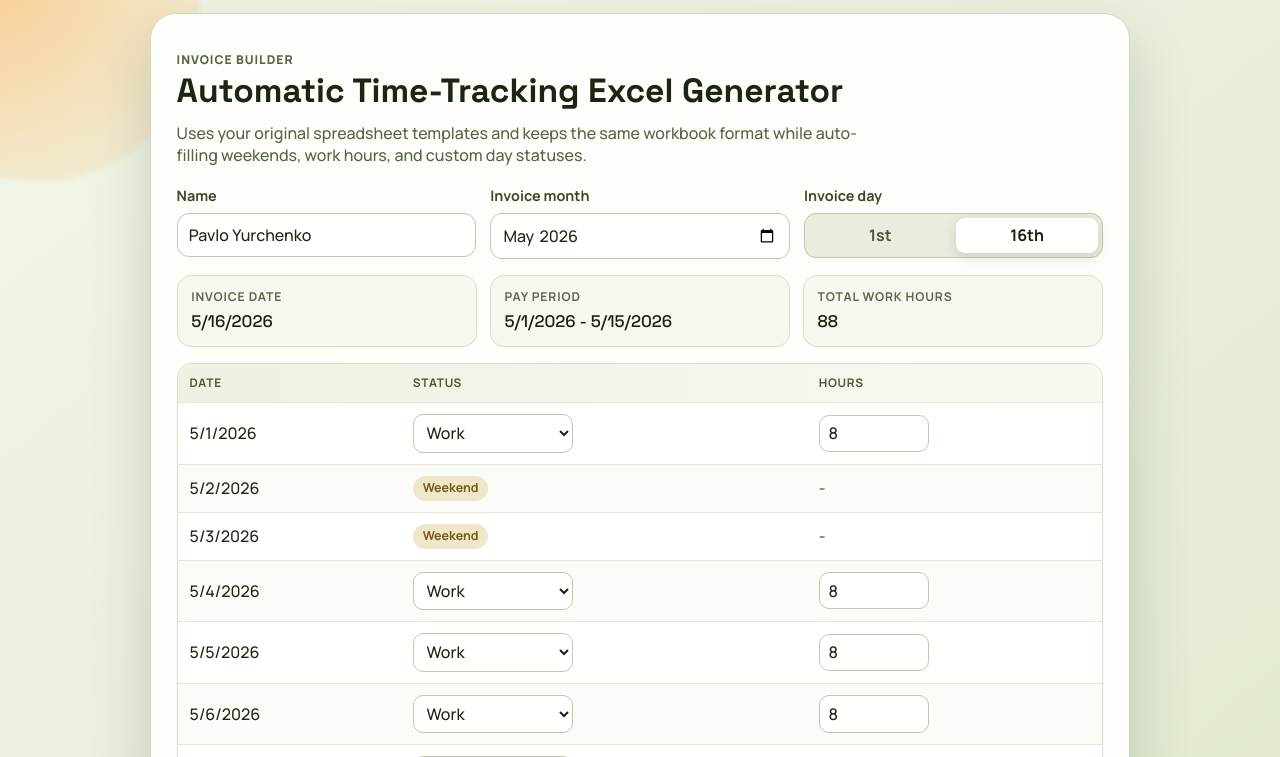
Test: App generation behavior › shows the existing workbook writer failure error behavior
The width and height of the screenshot is (1280, 757).
Step 1. Replace the text in the field labelled "Invoice month" with "2026-02" → coordinates (640, 236), box 490,213 -> 790,259
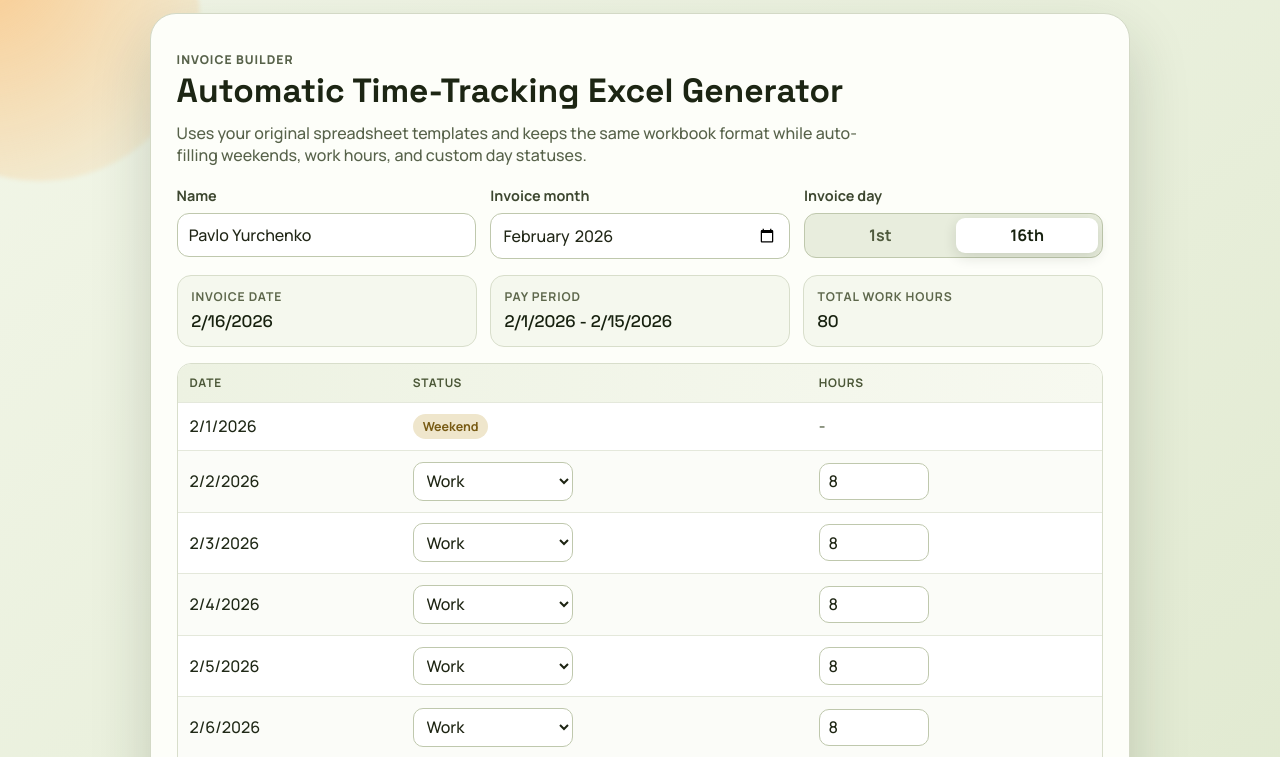
Step 2. Click the button "16th" → coordinates (1027, 235), box 956,218 -> 1098,253
(page scrolled)
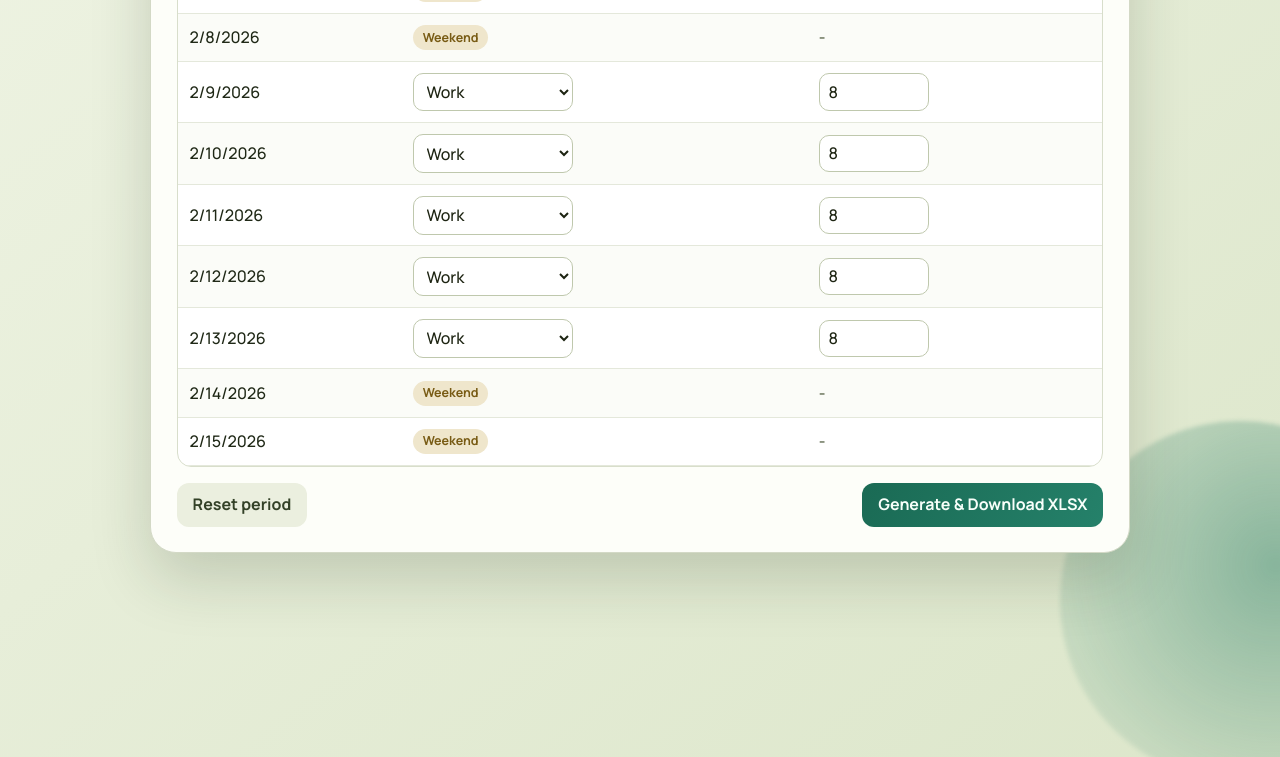
Step 3. Click the button "Generate & Download XLSX" → coordinates (983, 505), box 862,483 -> 1103,527
(page scrolled)
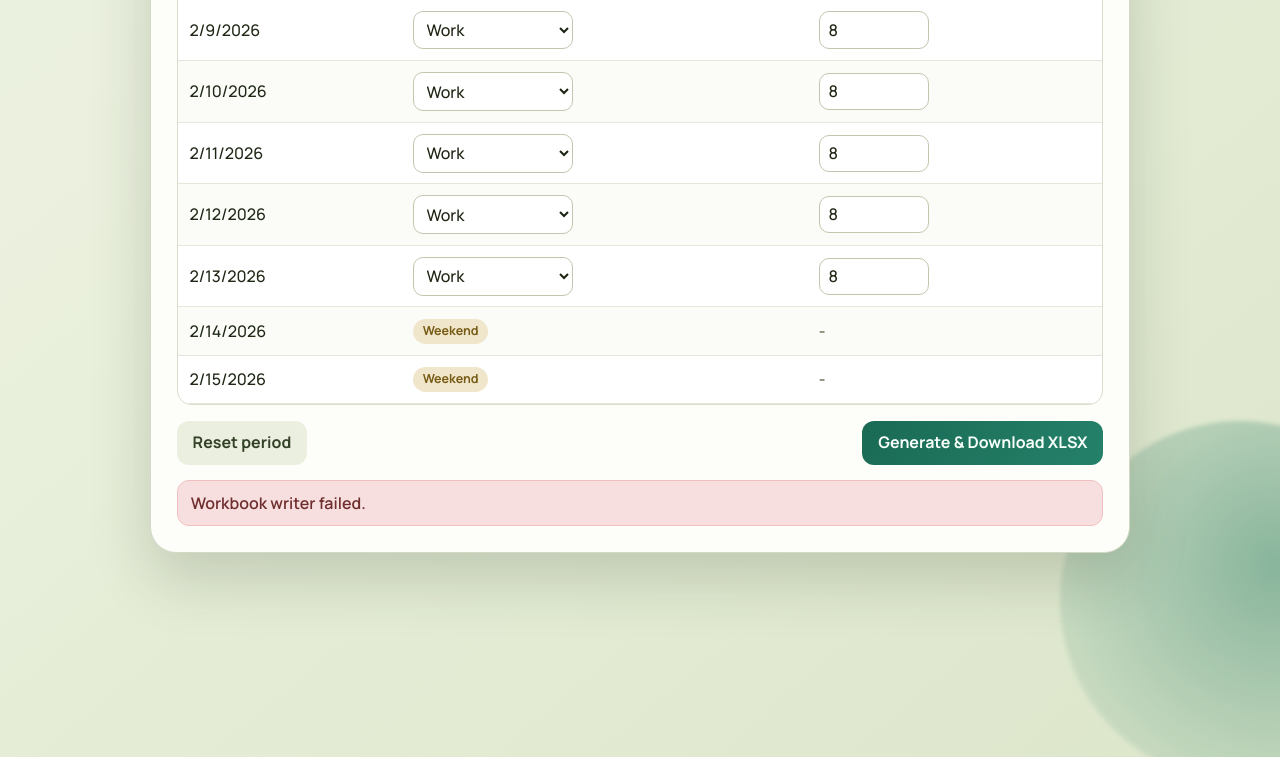
Expected: the button "Generate & Download XLSX" is enabled, 862,421 -> 1103,465
Now the text "Workbook writer failed." is shown, box 177,480 -> 1103,526
